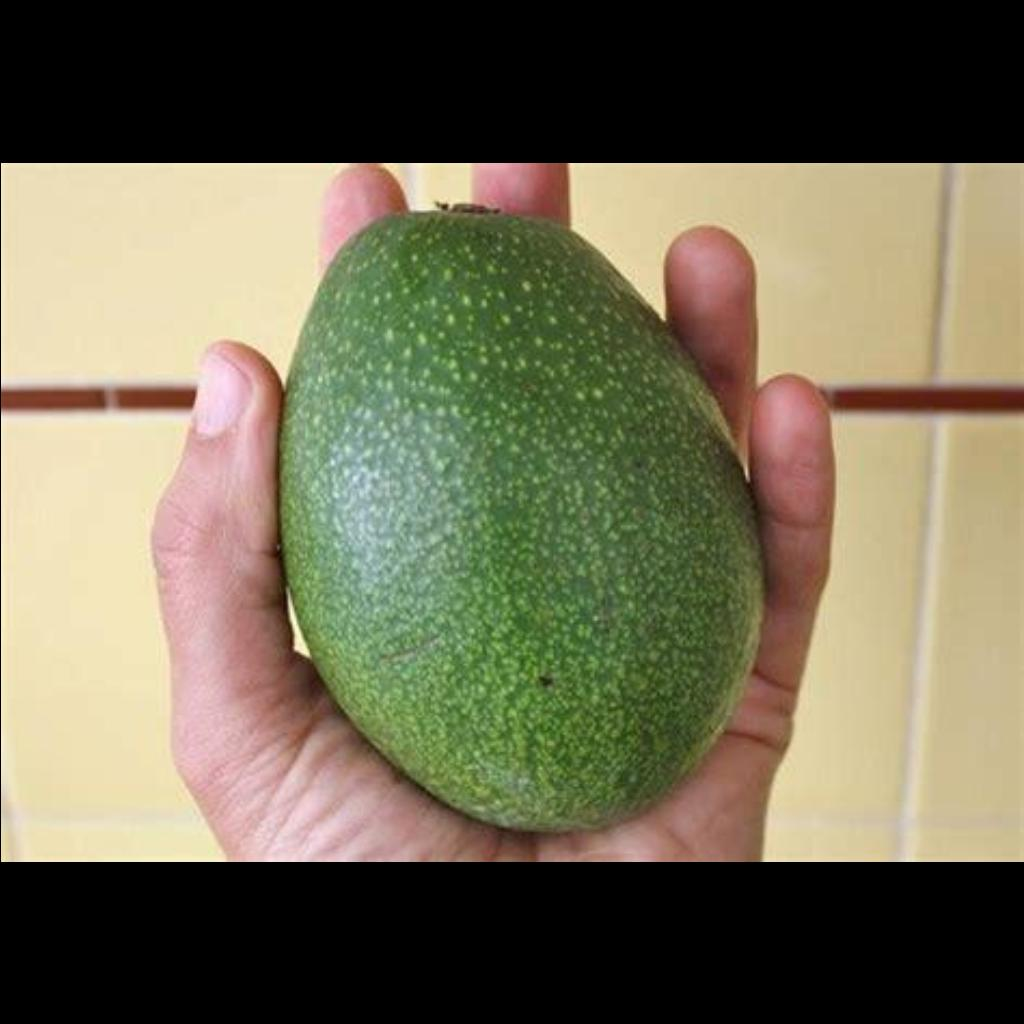Healthy: (260, 208, 762, 824)
